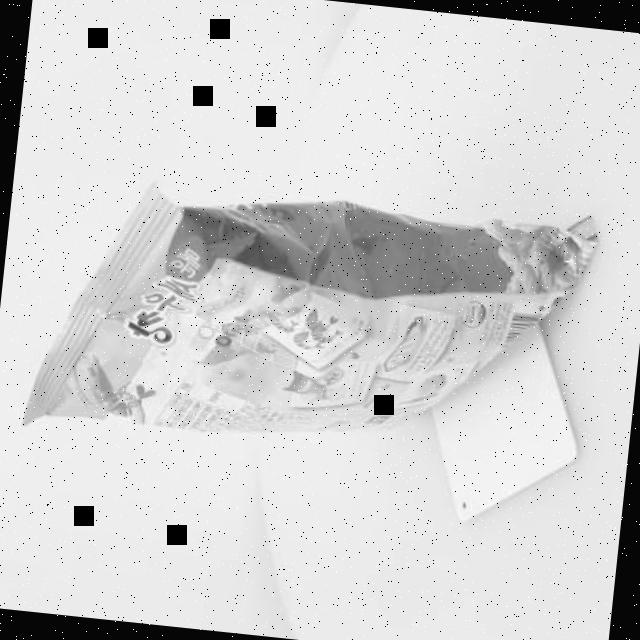snack_bag: (13, 158, 608, 486)
